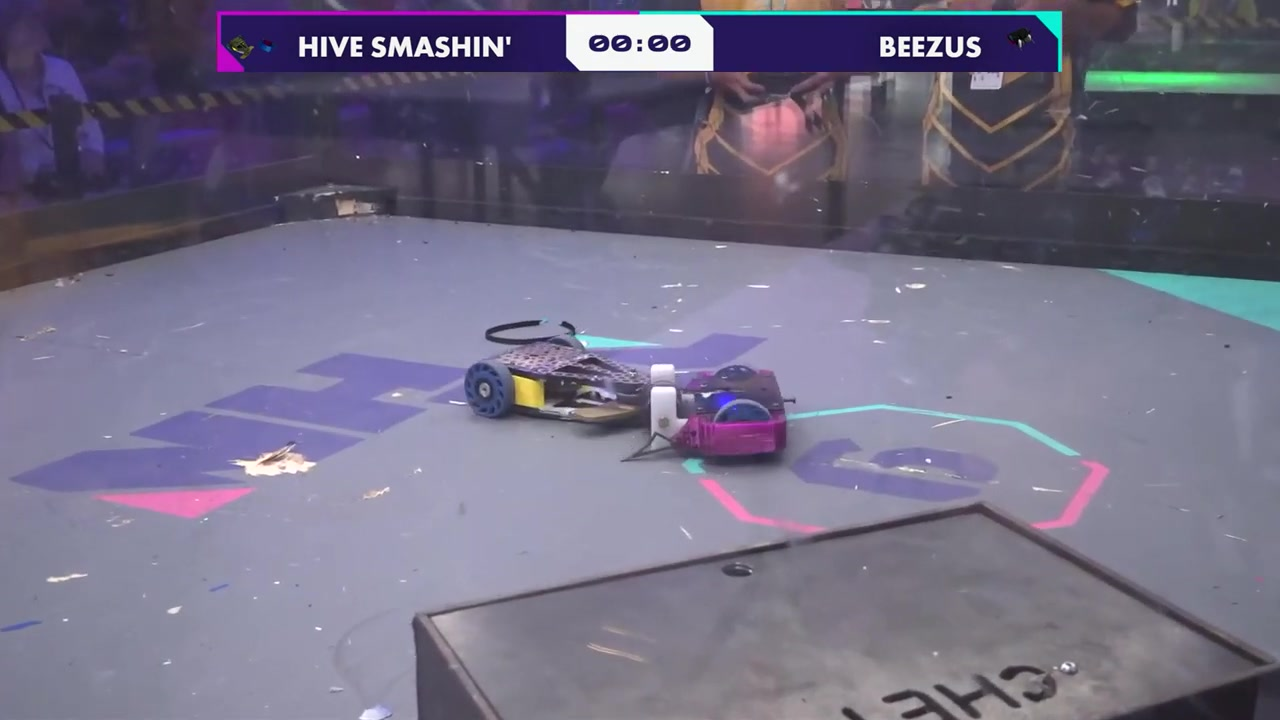belt: (483, 312, 579, 345)
combatbot: (464, 338, 650, 422), (648, 364, 786, 461)
housebot: (412, 500, 1280, 720)
